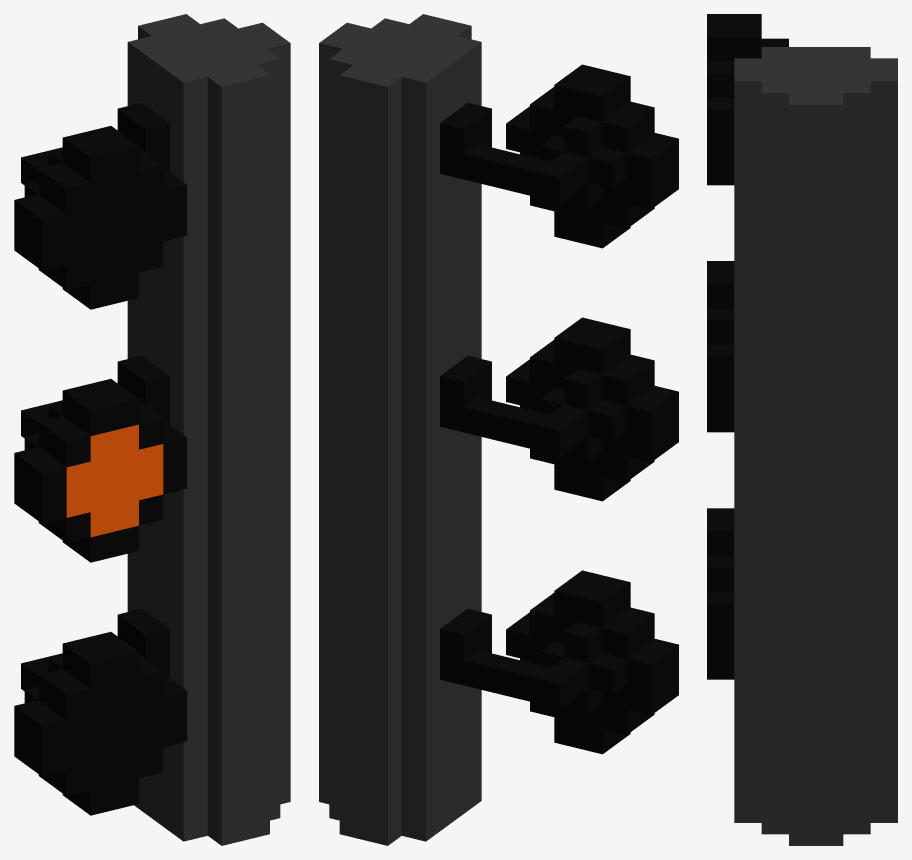
File: Frame_Feu_02.obj
3 renders of one model, left to right at view 1: azimuth 30°, elevation 25°; view 2: azimuth 150°, elevation 25°; view 3: azimuth 270°, elevation 25°, orthographic. The views are drawn at different scales.
Bounding box in the file's own units: 12 × 30 × 7.
Materials: 1 (1 with a texture image).
